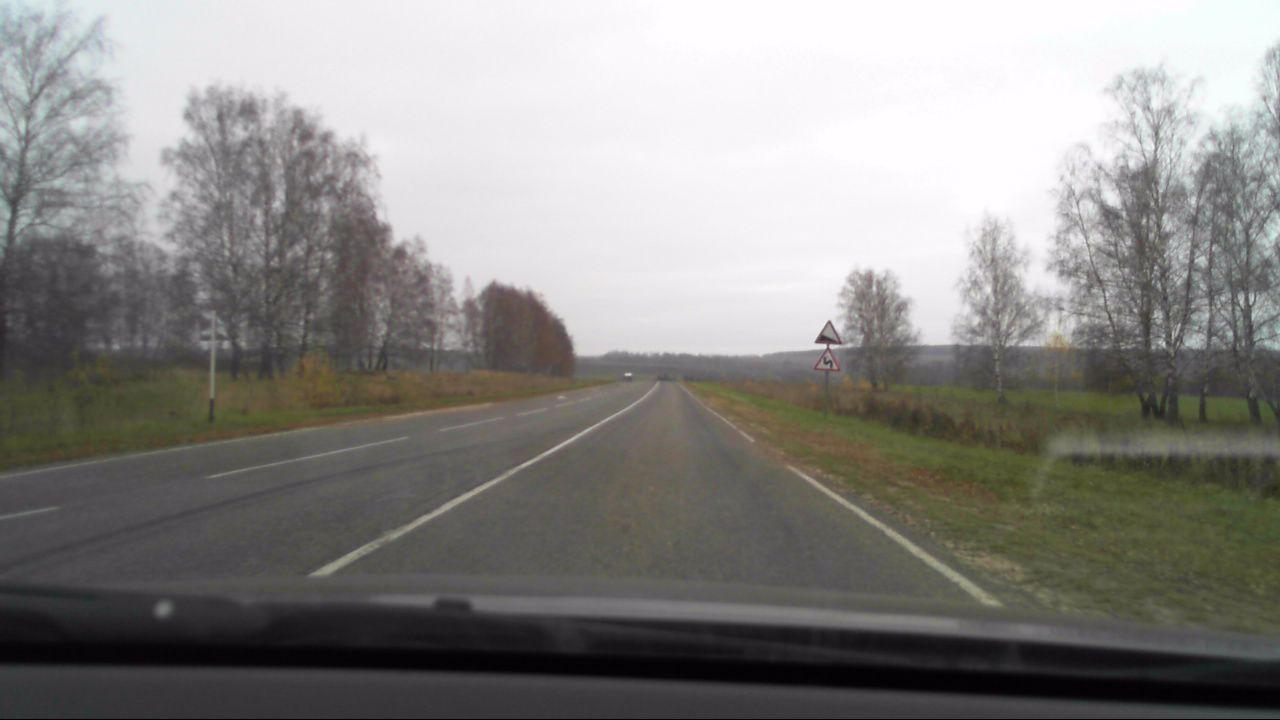1_12_2: (812, 345, 843, 374)
1_13: (813, 319, 842, 345)
